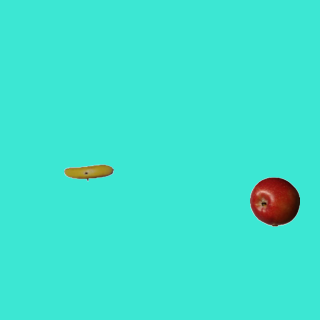Apple Braeburn: (249, 176, 299, 226)
Banana: (63, 147, 113, 197)
